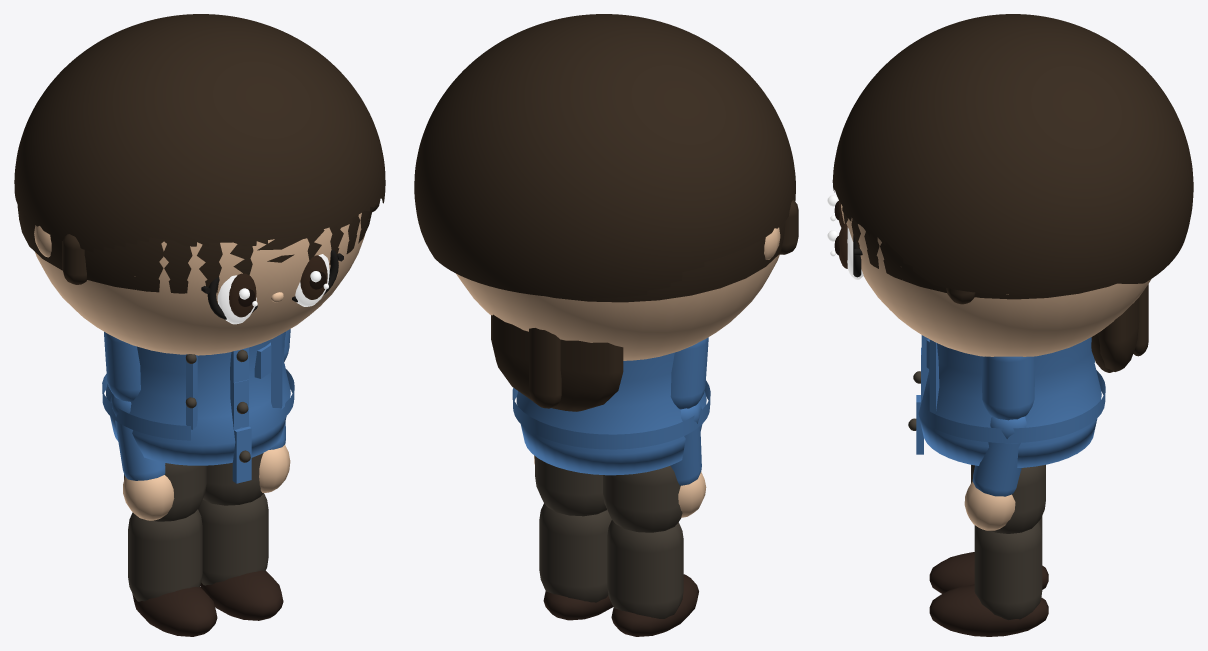
File: avatar-nam.glb
The picture shows the model from 3 angles, left to right: view 1: azimuth 30°, elevation 25°; view 2: azimuth 150°, elevation 25°; view 3: azimuth 270°, elevation 25°; orthographic projection. The views are drawn at different scales.
Parts seen in each view (by area): view 1: HairCap, Head, ShinW (×2), BuzzMesh, Torso, Shoe (×2), Cardigan, ThighW (×2), HandMesh (×2), ArmUp, Placket (×2), CardiganHem (+6 smaller); view 2: HairCap, Head, ShinW (×2), ThighW (×2), Cardigan, HoiDaiMesh, Torso, BuzzMesh, CardiganHem, Shoe (×2), BuocTail, ArmUp (+3 smaller); view 3: HairCap, Head, Cardigan, ShinW, Shoe (×2), Torso, ArmUp, CardiganHem, BuzzMesh, ThighW, Fore, HoiDaiMesh (+3 smaller).
Part boxes in pixels (x1,y1,x2,y2): HairCap: (14, 14, 385, 252); Head: (35, 213, 365, 355); ShinW (×2): (128, 493, 268, 601); BuzzMesh: (17, 205, 372, 293); Torso: (110, 339, 286, 465); Shoe (×2): (132, 570, 283, 636); Cardigan: (106, 331, 290, 431); ThighW (×2): (124, 453, 263, 521); HandMesh (×2): (123, 445, 290, 520); ArmUp: (104, 332, 140, 401); Placket (×2): (230, 379, 251, 483); CardiganHem: (102, 369, 294, 440); HairCap: (414, 14, 795, 298); Head: (456, 254, 779, 360); ShinW (×2): (539, 503, 683, 618); ThighW (×2): (535, 456, 682, 532); Cardigan: (516, 352, 706, 434); HoiDaiMesh: (491, 314, 623, 411); Torso: (520, 424, 702, 475); BuzzMesh: (546, 221, 785, 302); CardiganHem: (512, 380, 710, 449); Shoe (×2): (543, 574, 698, 636); BuocTail: (529, 328, 561, 408); ArmUp: (670, 337, 708, 409); HairCap: (832, 14, 1193, 294); Head: (841, 204, 1150, 356); Cardigan: (935, 337, 1101, 427); ShinW: (974, 521, 1042, 620); Shoe (×2): (929, 552, 1048, 636); Torso: (918, 369, 1097, 467); ArmUp: (982, 356, 1034, 420); CardiganHem: (928, 370, 1105, 443); BuzzMesh: (843, 212, 1116, 299); ThighW: (971, 465, 1045, 533); Fore: (972, 442, 1021, 496); HoiDaiMesh: (1097, 297, 1139, 371).
Size of what is drawn, in the model's own units: 0.6945 by 1.17 by 0.6667.
